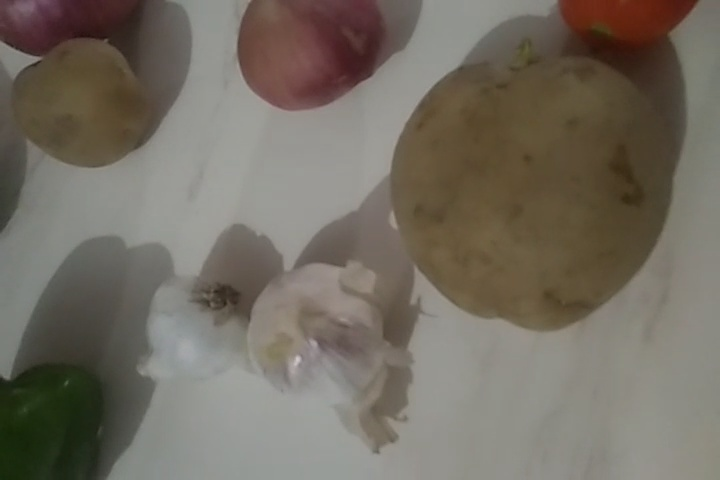capsicum: (1, 363, 101, 480)
garlic: (250, 267, 401, 437), (150, 275, 249, 384)
onion: (241, 1, 401, 110), (1, 1, 146, 50)
potato: (396, 52, 663, 337), (15, 43, 154, 164)
tomato: (561, 1, 694, 61)
